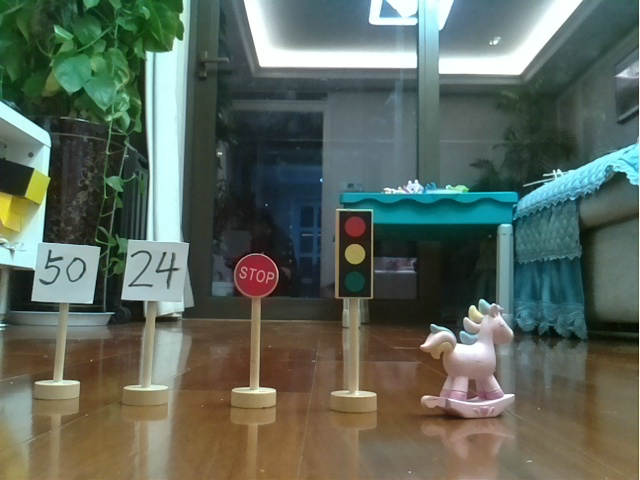Horse: (415, 298, 528, 421)
Red Traffic Light: (327, 200, 387, 423)
Speed Limit 24: (119, 237, 191, 413)
Speed Limit 50: (28, 237, 102, 402)
Stop Sign: (227, 246, 284, 419)
